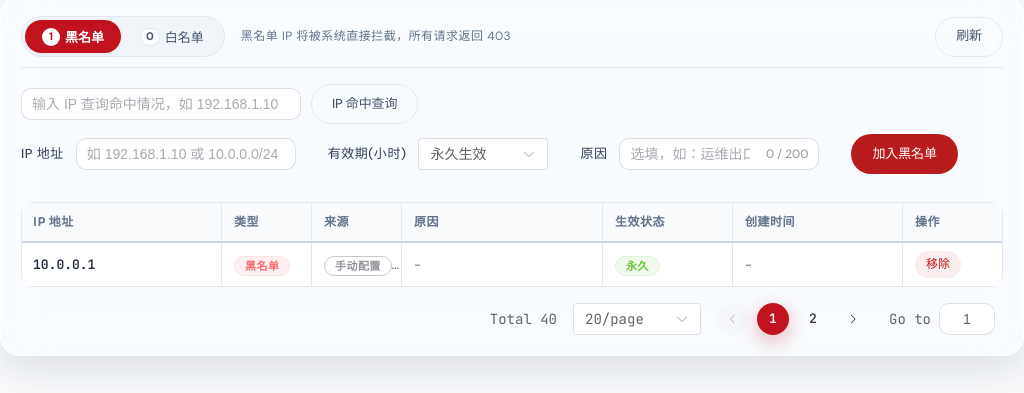
Test case: IpListView 名单切换与分页 › 切换白名单：携带 type=white、回到第 1 页并切换描述文案
The width and height of the screenshot is (1024, 393).
Click the button with class "btn-next" at (853, 319), box [837,303,869,335]
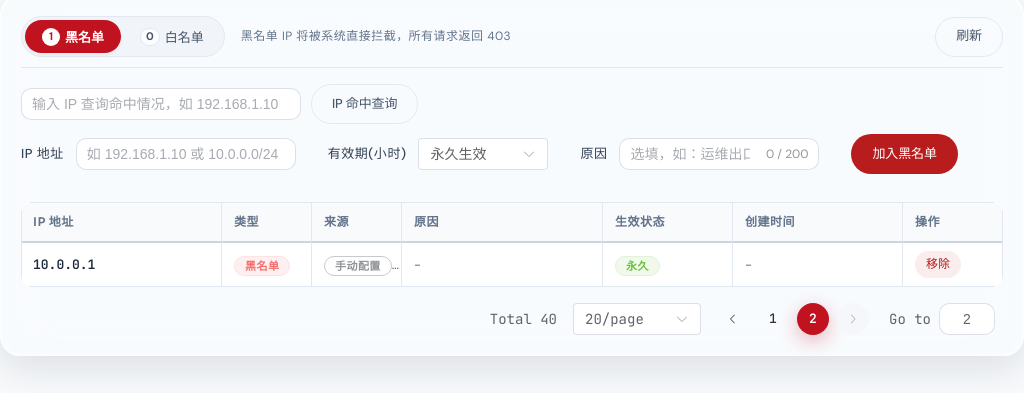
Expected: the text with class "list-desc" shows "黑名单 IP 将被系统直接拦截", [241,28,511,44]
Click the tab with class "glass-segmented__item" showing "0 白名单" at (172, 36), box [123,20,221,53]
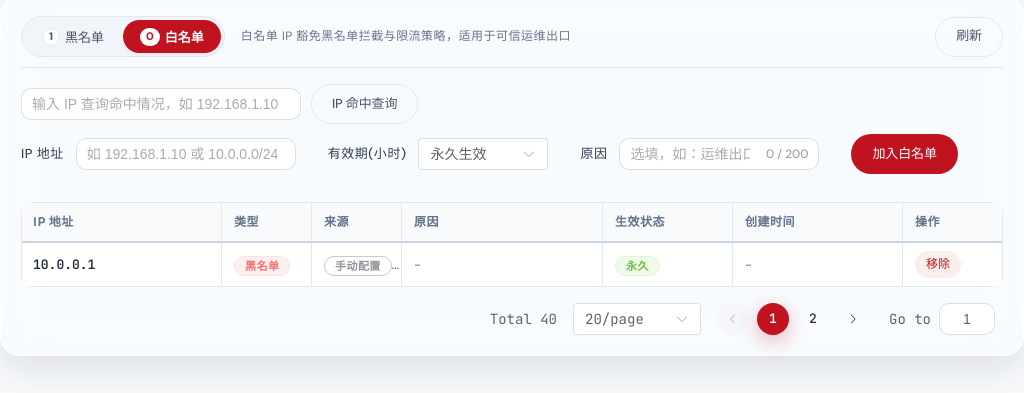
Expected: the text with class "list-desc" shows "白名单 IP 豁免黑名单拦截", [241,28,571,44]
